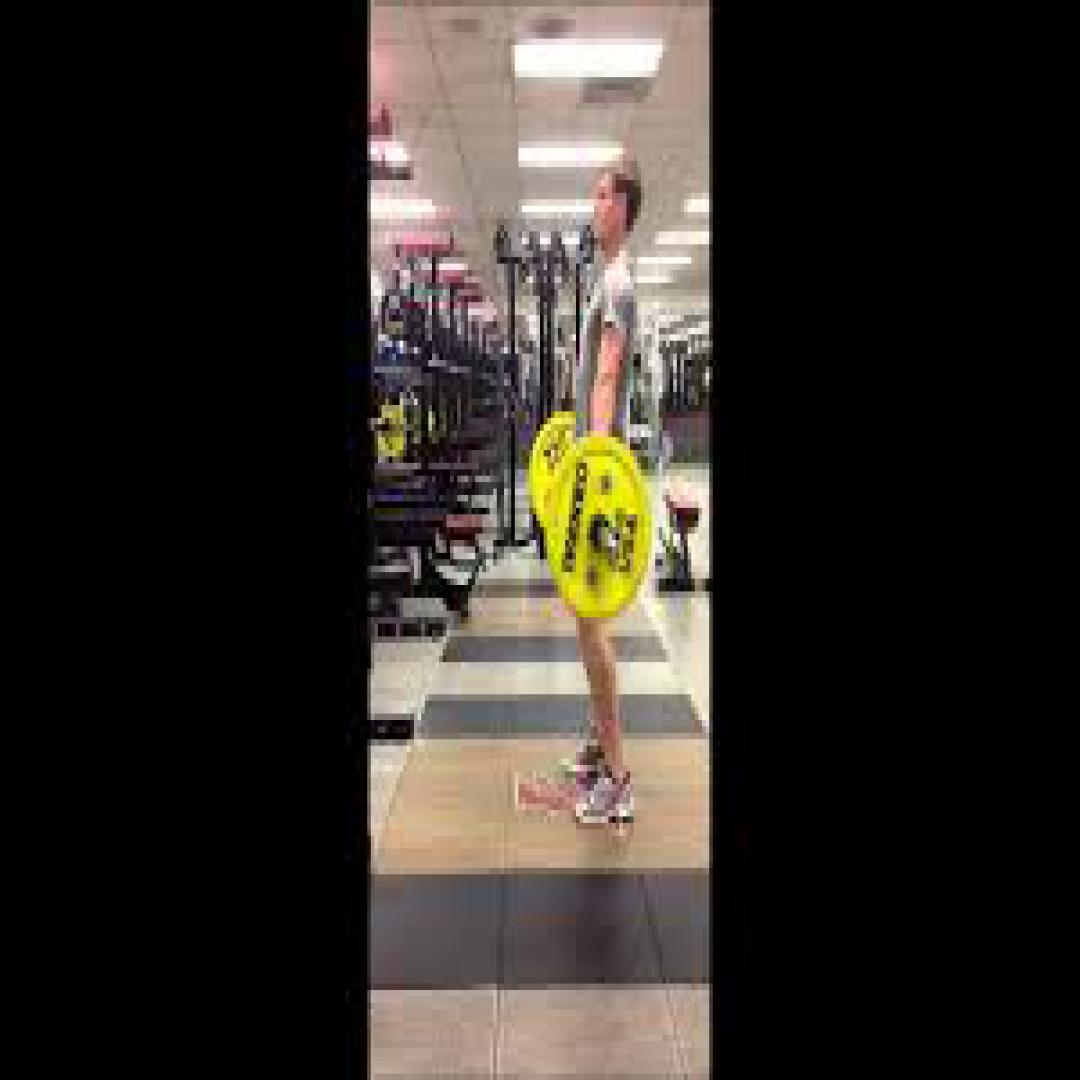Bar: (601, 527, 619, 559)
Barbell: (547, 437, 648, 617)
